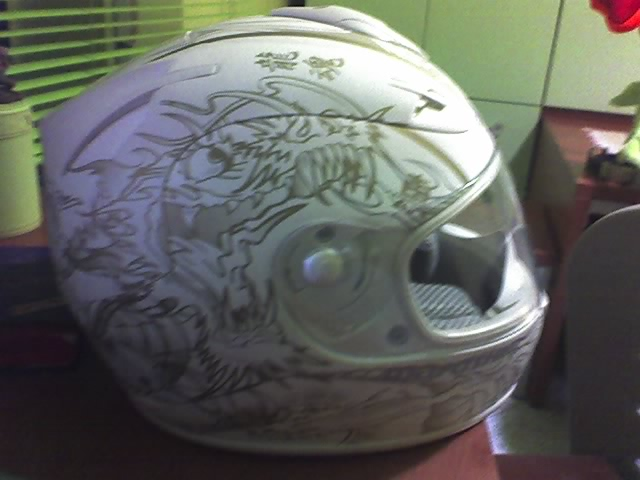helmet: (29, 31, 557, 437)
